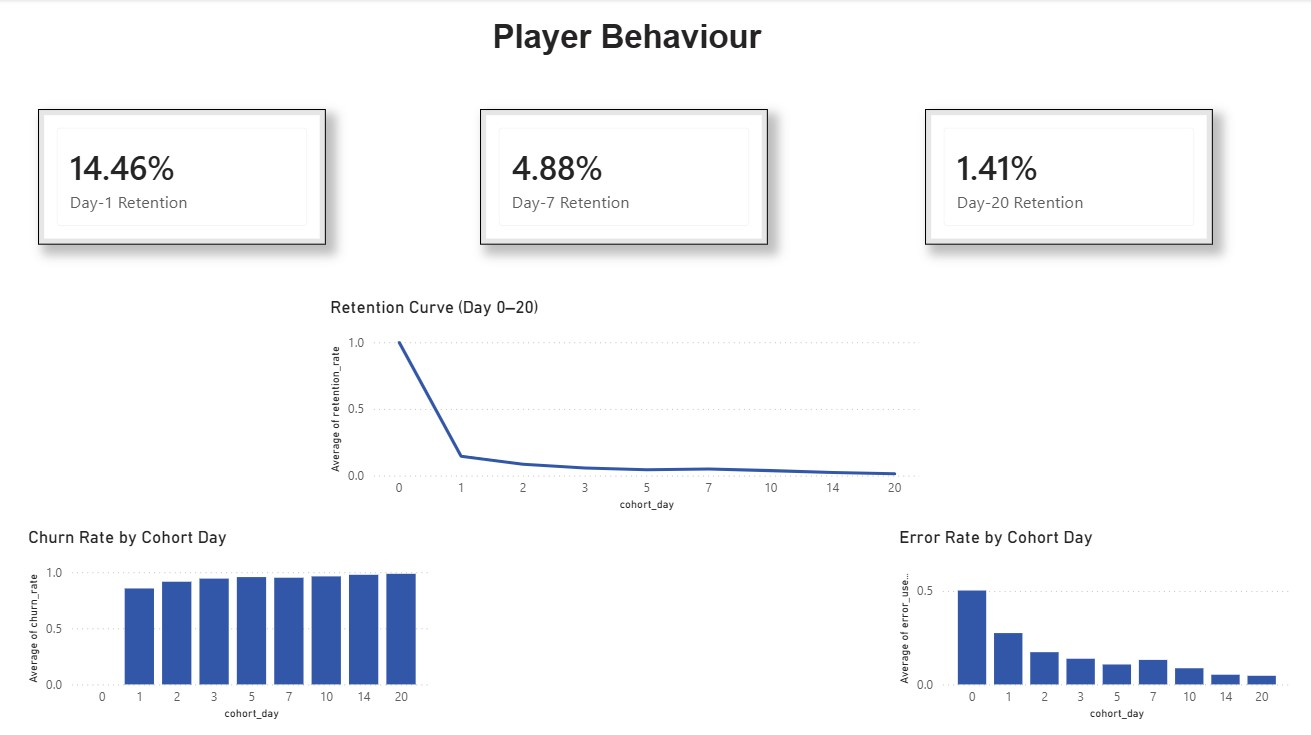

The dashboard page shown, as its layout file describes it:
{"tool":"powerbi","page":{"name":"Player Behaviour","canvas":[1280,720],"ordinal":1},"visuals":[{"type":"textbox","box":[459.7,13.7,303.3,65.9],"z":0},{"type":"cardVisual","fields":{"Data":["player_behaviour_clean.Day-1 Retention"]},"box":[38.4,107,280,132],"z":1},{"type":"cardVisual","fields":{"Data":["player_behaviour_clean.Day-7 Retention"]},"box":[469.3,107,280,132],"z":2},{"type":"cardVisual","fields":{"Data":["player_behaviour_clean.Day-20 Retention"]},"box":[901.5,107,280,132],"z":3},{"type":"lineChart","title":"Retention Curve (Day 0–20)","fields":{"Category":["player_behaviour_clean.cohort_day"],"Y":["Avg(player_behaviour_clean.retention_rate)"]},"box":[318.4,289.5,583.2,212.7],"z":4},{"type":"clusteredColumnChart","title":"Churn Rate by Cohort Day","fields":{"Category":["player_behaviour_clean.cohort_day"],"Y":["Avg(player_behaviour_clean.churn_rate)"]},"box":[24.7,513.2,402.1,192.1],"z":5},{"type":"clusteredColumnChart","title":"Error Rate by Cohort Day","fields":{"Category":["player_behaviour_clean.cohort_day"],"Y":["Avg(player_behaviour_clean.error_users_pct)"]},"box":[871.4,513.2,391.1,192.1],"z":6}]}

Visuals, with their boxes in screenshot pixels (x1, y1, x2, y2), scaled from the page's 1280x720 canvas onto the 1311x735 screenshot:
textbox: 471/14/781/81
cardVisual - player_behaviour_clean.Day-1 Retention: 39/109/326/244
cardVisual - player_behaviour_clean.Day-7 Retention: 481/109/767/244
cardVisual - player_behaviour_clean.Day-20 Retention: 923/109/1210/244
"Retention Curve (Day 0–20)" lineChart: 326/296/923/513
"Churn Rate by Cohort Day" clusteredColumnChart: 25/524/437/720
"Error Rate by Cohort Day" clusteredColumnChart: 893/524/1293/720
